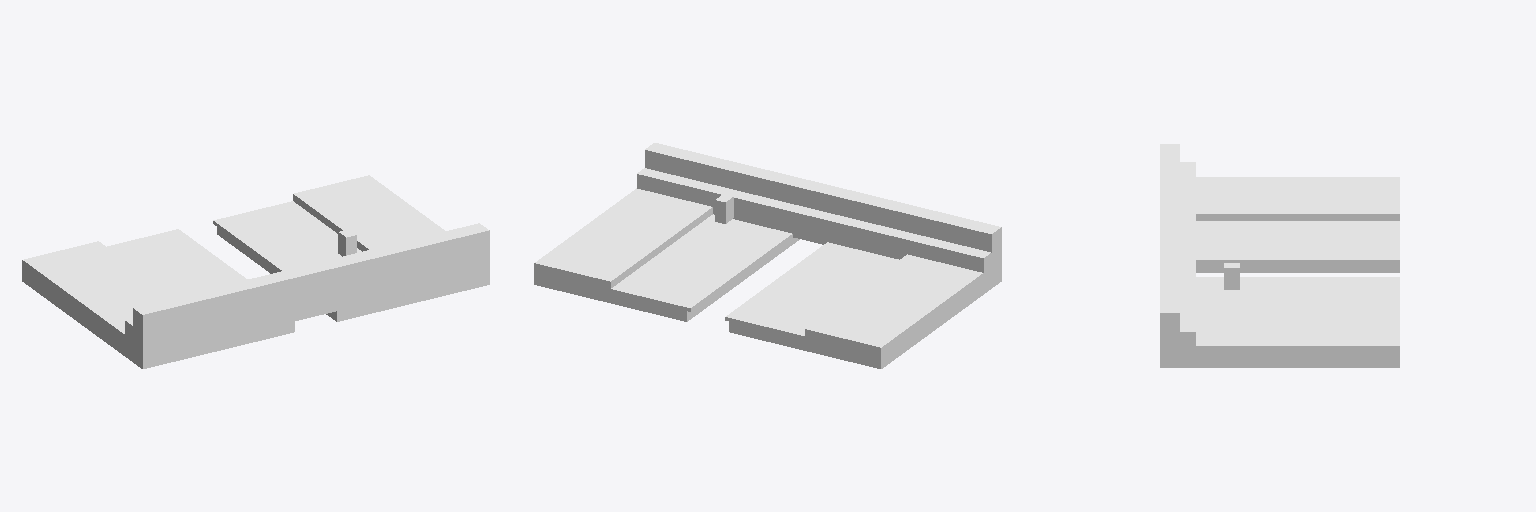
The model's file is Map_1_1.obj.
3 renders of one model, left to right at view 1: azimuth 30°, elevation 25°; view 2: azimuth 150°, elevation 25°; view 3: azimuth 270°, elevation 25°, orthographic.
Visible parts, largest first — view 1: Map_1_1; view 2: Map_1_1; view 3: Map_1_1.
Part boxes in pixels (left/top/right/bottom): Map_1_1: left=22, top=175, right=489, bottom=368; Map_1_1: left=534, top=143, right=1001, bottom=368; Map_1_1: left=1160, top=144, right=1399, bottom=367.
Bounding box in the file's own units: 10 × 1.5 × 6.